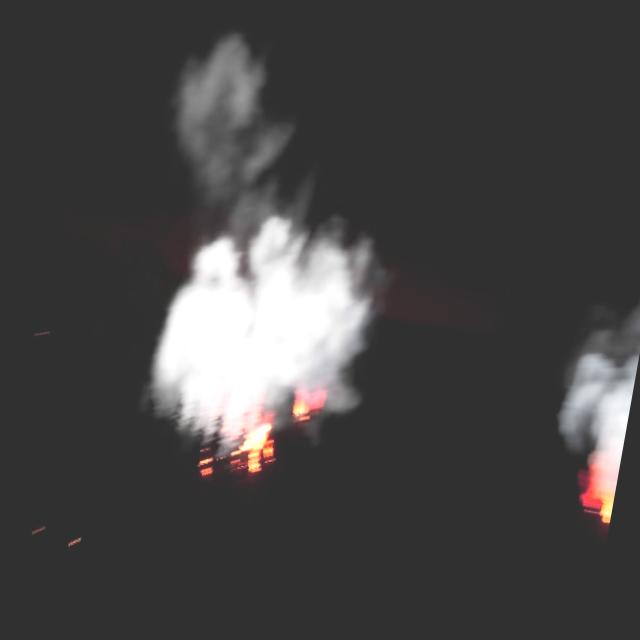fire: (192, 362, 326, 495), (570, 444, 622, 536)
smoke: (114, 21, 422, 468), (538, 293, 640, 546)
